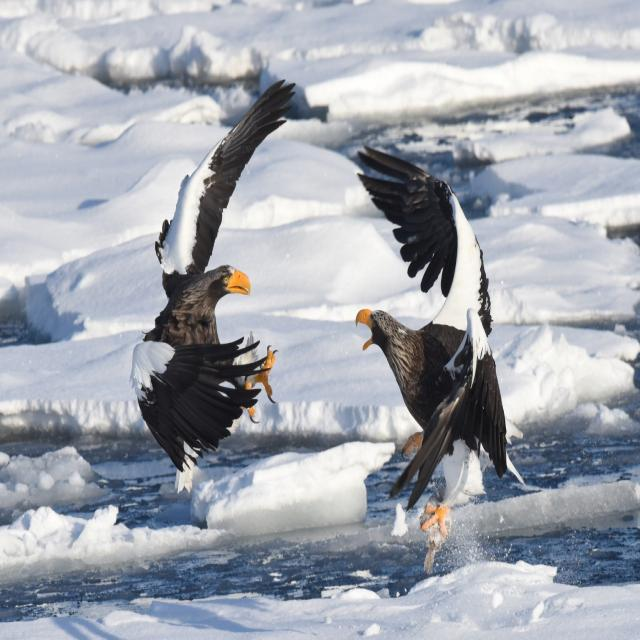bird: (140, 70, 294, 520), (358, 131, 518, 564)
